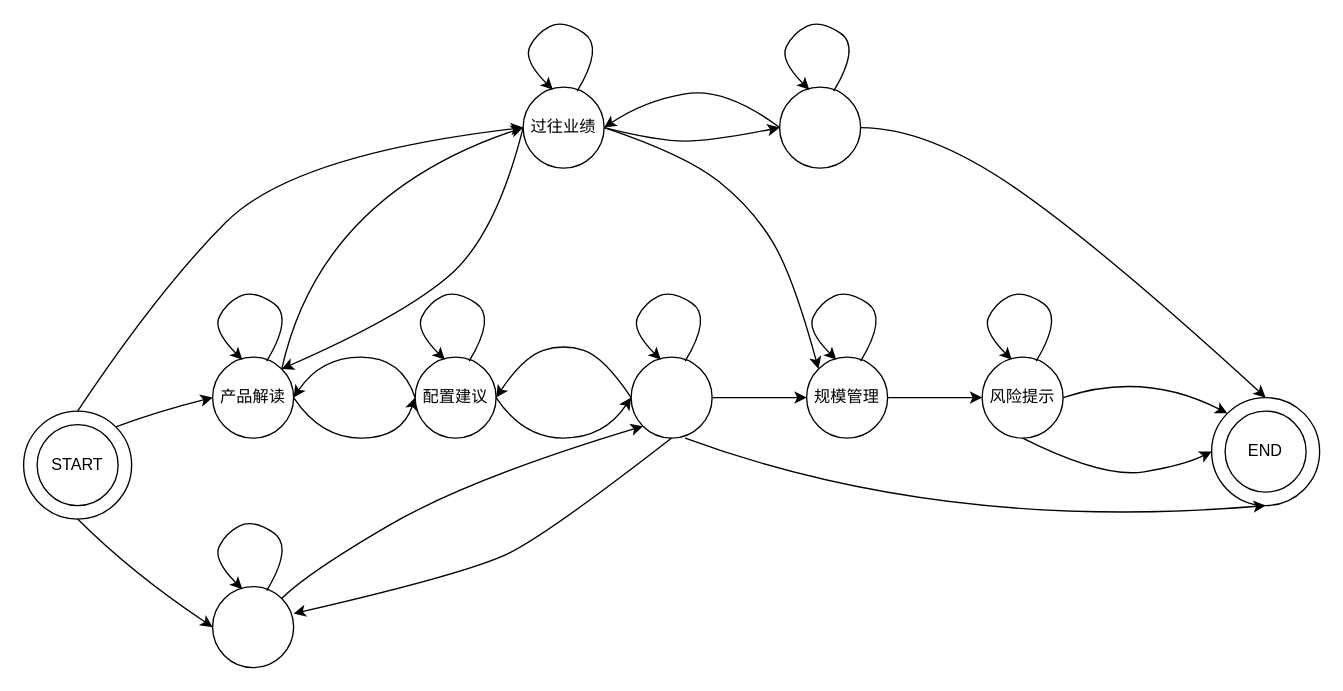
The diagram is 1343 pixels wide and 691 high, and some of its shapes have lost their labels. Here are the shapes that lost their labels. From the top down, the box of each, then its label:
(778, 86, 861, 168): 费率
(630, 356, 712, 438): 投资者教育
(211, 585, 294, 668): KYC
